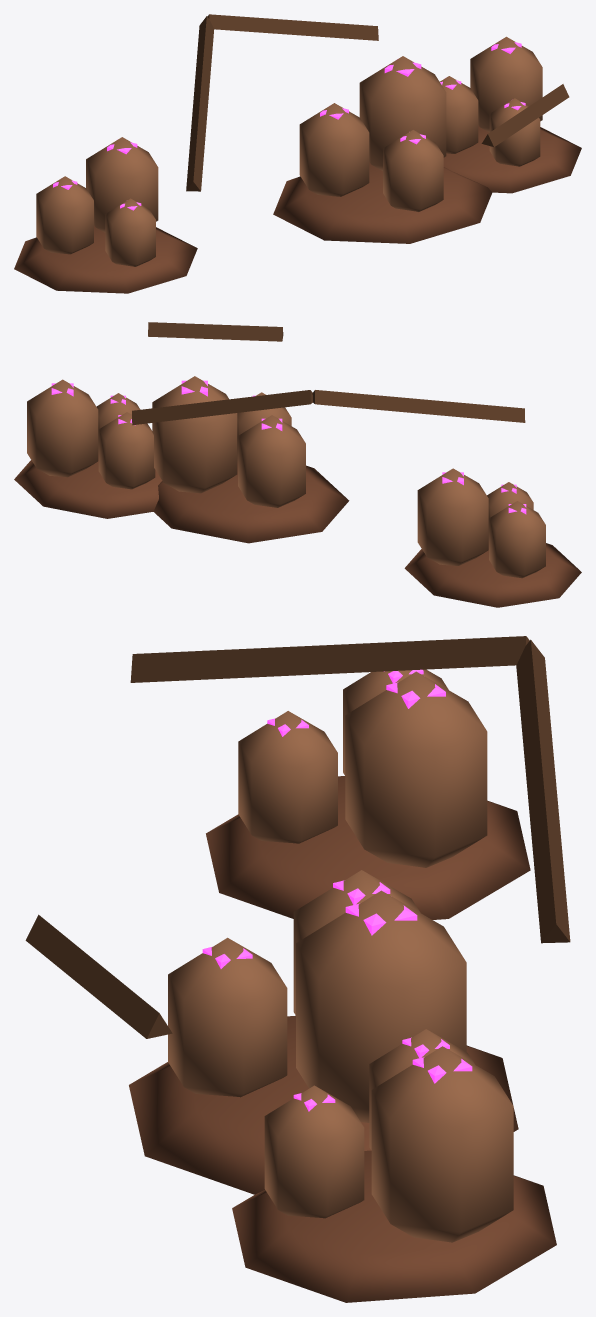
The model's file is overworld-settlement-eggs-african-rural.glb.
3 renders of one model, top to bottom at view 1: azimuth 30°, elevation 25°; view 2: azimuth 150°, elevation 25°; view 3: azimuth 270°, elevation 25°, orthographic. The views are drawn at different scales.
Visible parts, largest first — view 1: settlement_eggs; view 2: settlement_eggs; view 3: settlement_eggs.
Part boxes in pixels (<box>): settlement_eggs: <box>14,14,581,293</box>; settlement_eggs: <box>14,322,581,607</box>; settlement_eggs: <box>25,636,570,1302</box>.
Bounding box in the file's own units: 0.4406 × 0.1369 × 0.1924.
